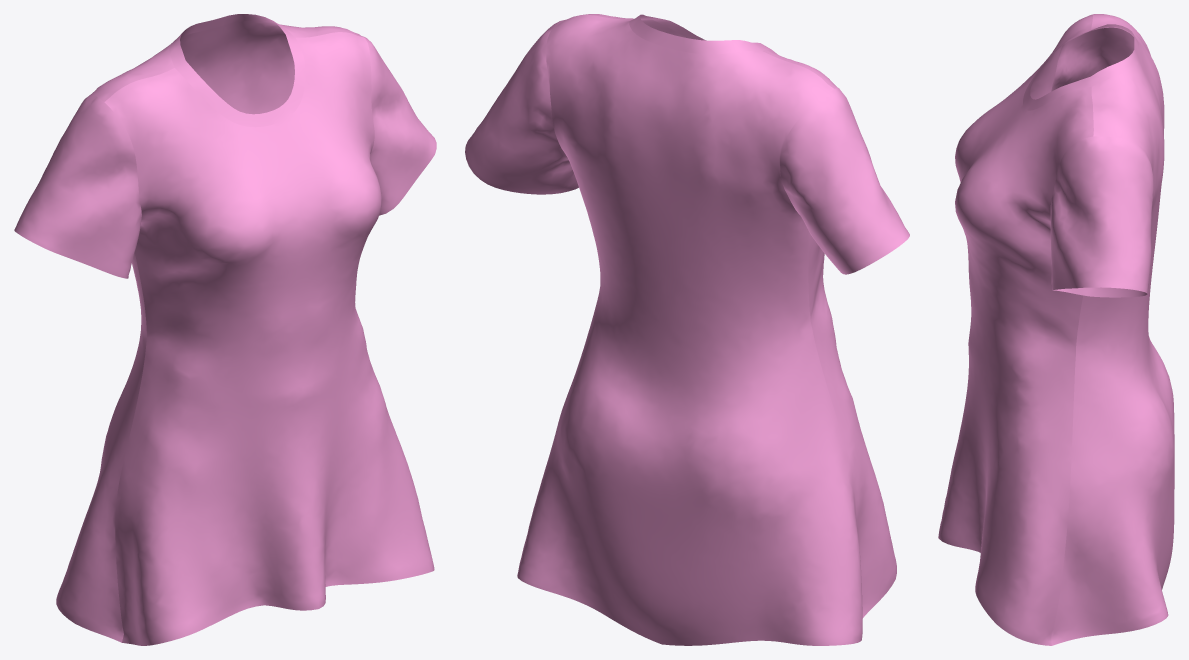
Rendered from dress1glb.glb.
3 renders of one model, left to right at view 1: azimuth 30°, elevation 25°; view 2: azimuth 150°, elevation 25°; view 3: azimuth 270°, elevation 25°, orthographic. The views are drawn at different scales.
Visible parts, largest first — view 1: Object_2; view 2: Object_2; view 3: Object_2.
Boxes of the visible parts, x1=… form: Object_2: x1=14, y1=14, x2=436, y2=645; Object_2: x1=465, y1=14, x2=909, y2=645; Object_2: x1=938, y1=14, x2=1174, y2=645.
Bounding box in the file's own units: 267 × 354 × 139.
